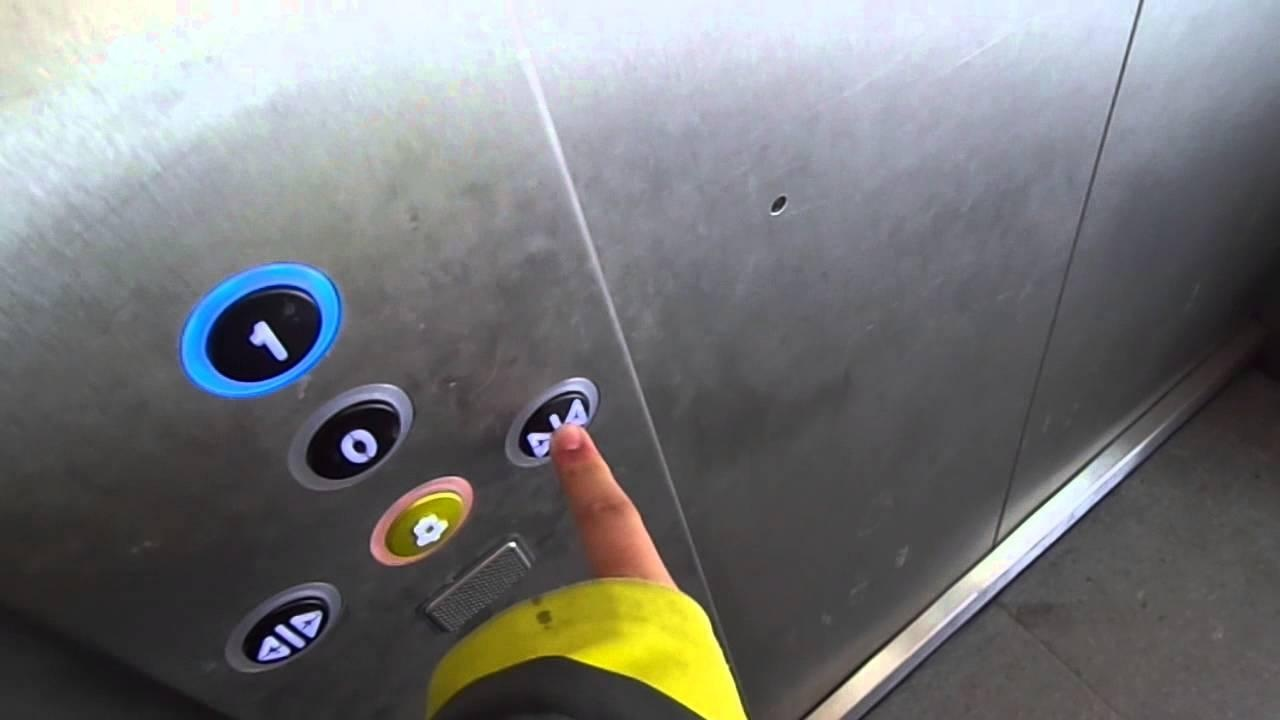0: (283, 380, 417, 498)
1: (175, 258, 346, 404)
alarm: (366, 473, 478, 571)
close: (500, 374, 606, 473)
open: (220, 578, 345, 680)
